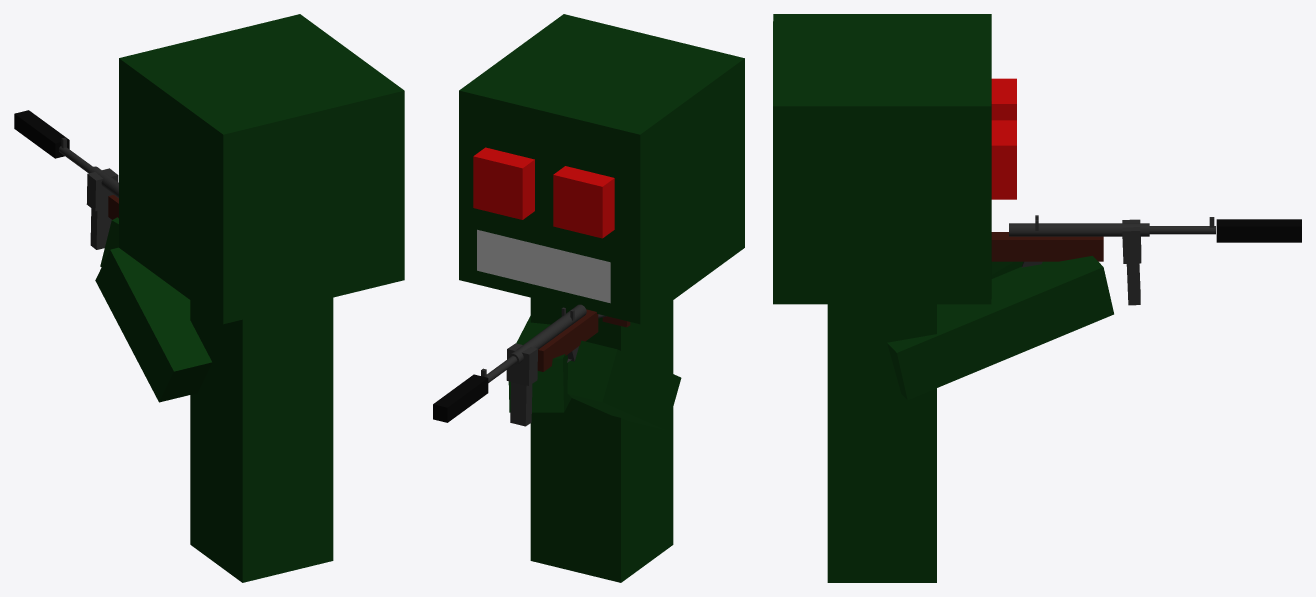
File: walk2_000006.obj
The picture shows the model from 3 angles, left to right: view 1: azimuth 30°, elevation 25°; view 2: azimuth 150°, elevation 25°; view 3: azimuth 270°, elevation 25°; orthographic projection. The views are drawn at different scales.
Visible parts, largest first — view 1: Cube.001, Cube, Cube.012, Cube.014_Cube.015, Cube.004, Cube.008_Cube.005; view 2: Cube.001, Cube, Cube.012, Plane, Cube.002, Cube.003, Cube.013, Cube.010, Cube.014_Cube.015, Cylinder, Cube.004, Cube.008_Cube.005; view 3: Cube.001, Cube, Cube.013, Cube.010, Cube.002, Cube.014_Cube.015, Cylinder, Cube.003, Cube.004.
Part boxes in pixels (box(x1,y1,x2,y2)): Cube.001: box(119, 14, 404, 324); Cube: box(190, 297, 333, 582); Cube.012: box(95, 247, 212, 402); Cube.014_Cube.015: box(14, 110, 69, 158); Cube.004: box(86, 168, 118, 211); Cube.008_Cube.005: box(90, 208, 111, 249); Cube.001: box(459, 14, 744, 324); Cube: box(530, 297, 673, 582); Cube.012: box(567, 340, 681, 430); Plane: box(477, 229, 610, 303); Cube.002: box(473, 147, 534, 219); Cube.003: box(553, 166, 614, 238); Cube.013: box(508, 316, 571, 412); Cube.010: box(537, 309, 598, 371); Cube.014_Cube.015: box(433, 374, 488, 422); Cylinder: box(508, 304, 586, 365); Cube.004: box(506, 343, 537, 385); Cube.008_Cube.005: box(510, 382, 532, 426); Cube.001: box(773, 14, 991, 304); Cube: box(827, 304, 936, 582); Cube.013: box(887, 256, 1113, 399); Cube.010: box(991, 232, 1103, 261); Cube.002: box(991, 120, 1016, 199); Cube.014_Cube.015: box(1216, 219, 1301, 242); Cylinder: box(1009, 223, 1149, 236); Cube.003: box(991, 78, 1016, 120); Cube.004: box(1122, 219, 1141, 263).
Size of the model in its own units: 2 by 5.05 by 4.84.
